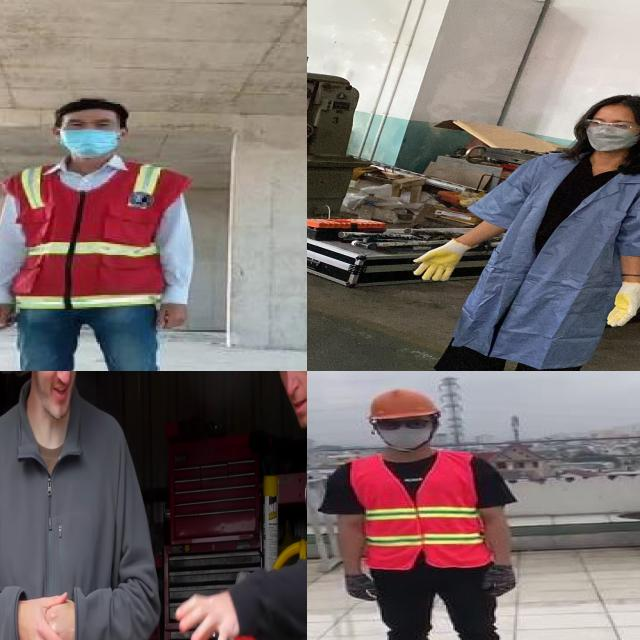Ear-protection: (3, 371, 93, 422)
No_Glasses: (267, 371, 307, 383)
face_mask: (59, 116, 122, 156), (577, 117, 640, 155), (373, 414, 434, 448)
glasses: (372, 416, 434, 433), (582, 116, 640, 133)
hand_glove: (407, 243, 464, 284), (601, 288, 640, 328), (343, 571, 378, 603), (483, 566, 517, 598)
hand_noglove: (150, 298, 190, 333), (0, 297, 20, 331)
head_helmet: (368, 387, 440, 421)
head_nohelmet: (51, 92, 133, 121), (581, 91, 640, 117)
person: (395, 86, 640, 371), (0, 88, 195, 371), (327, 385, 528, 640)
vest: (0, 154, 191, 318), (352, 451, 488, 571)
